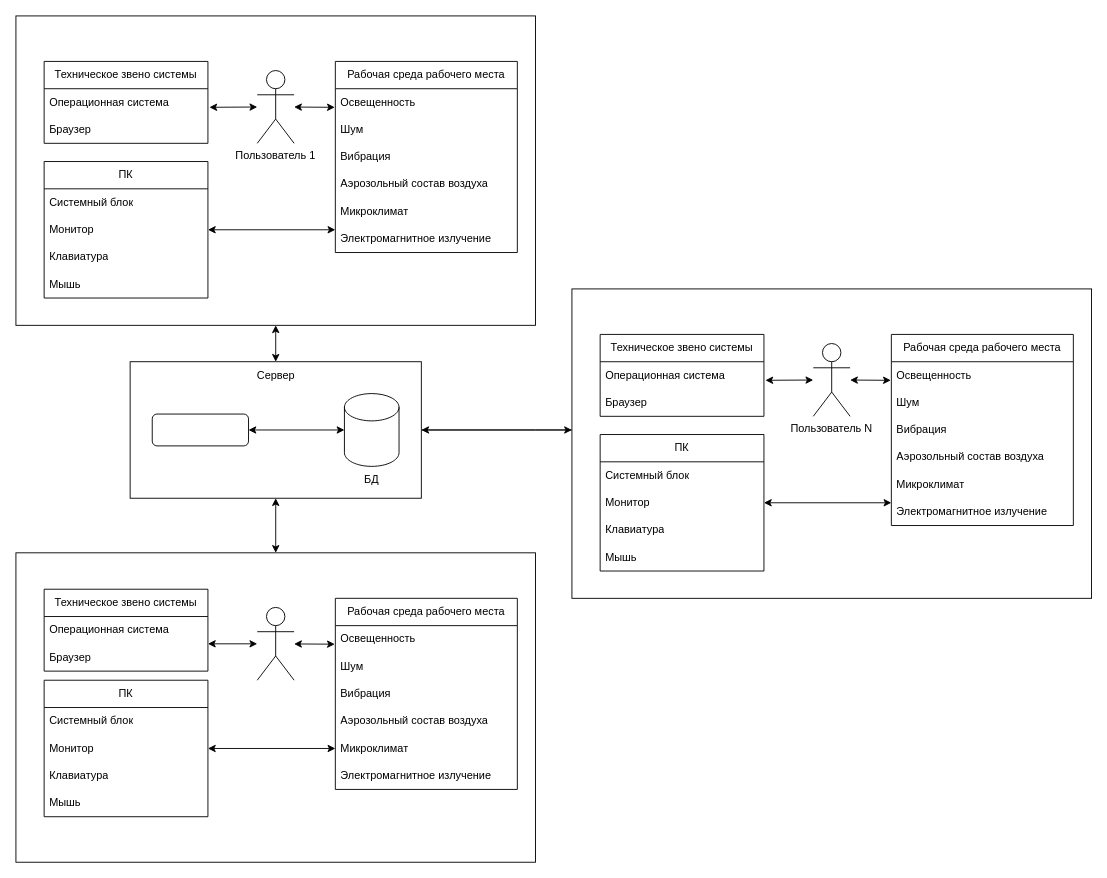
Image size: 1107x878. Some labels were removed from this diagram. Here are the shapes that lost their labels. From the top down, the box of each, then its label:
(151, 413, 249, 446): Веб-ресурс
(256, 607, 294, 680): Администратор/ Модератор
